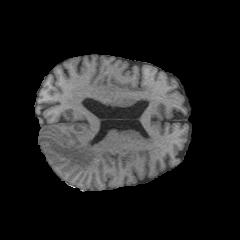glioma: (40, 129, 96, 172)
